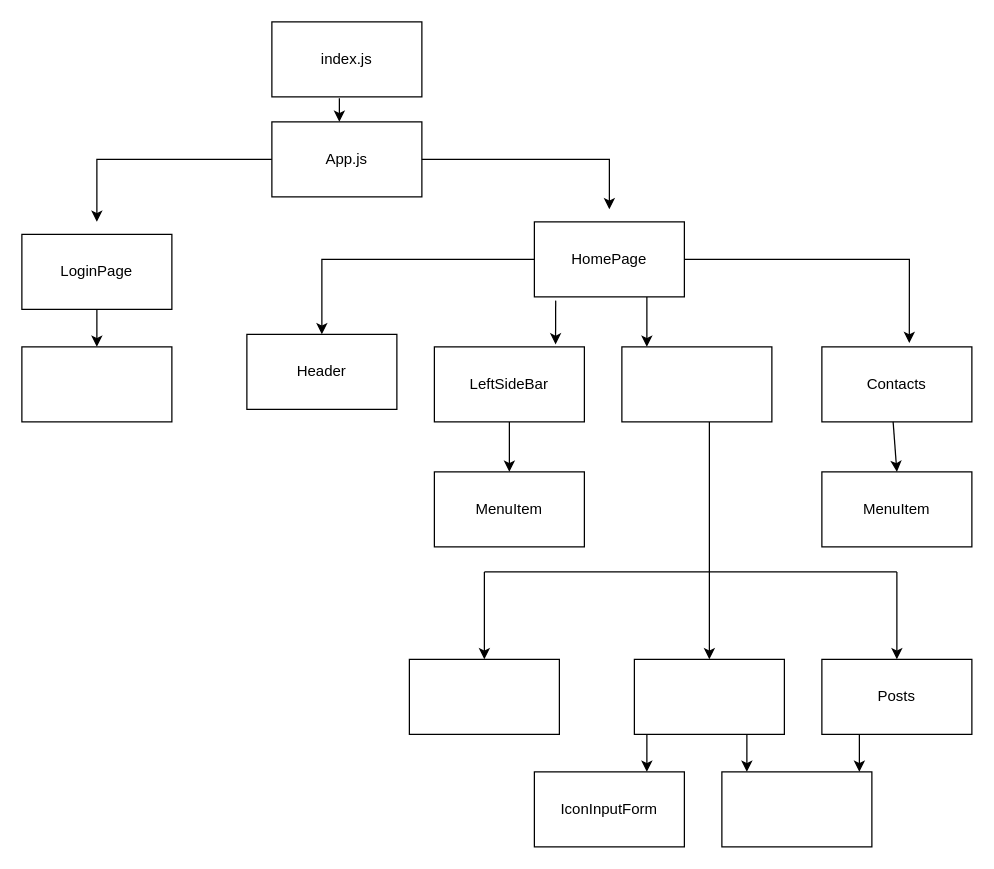
Image size: 994x869. Some labels were removed from this diagram. Each missing label, with the box of its shape:
ILButton: (721, 771, 872, 847)
LoginForm: (21, 346, 172, 422)
Newsfeed: (621, 346, 772, 422)
SroriesReels: (408, 658, 559, 734)
StatusForm: (633, 658, 784, 734)
